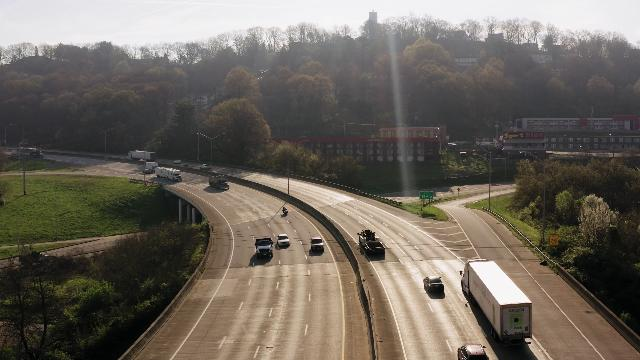car: (455, 339, 492, 360), (422, 274, 448, 298), (310, 235, 326, 253), (278, 232, 291, 249), (172, 158, 182, 165)
motorcycle: (279, 206, 289, 218)
pickup-truck: (356, 227, 381, 245), (199, 162, 211, 170)
truck: (457, 258, 535, 343), (253, 237, 276, 260), (153, 166, 183, 182), (207, 173, 230, 193), (124, 149, 157, 162), (16, 146, 44, 159)
